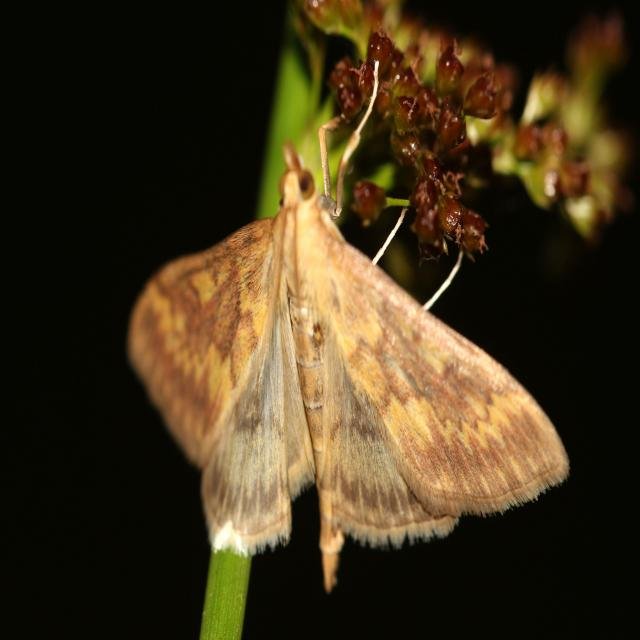cornborer-Adult-: (104, 130, 578, 584)
